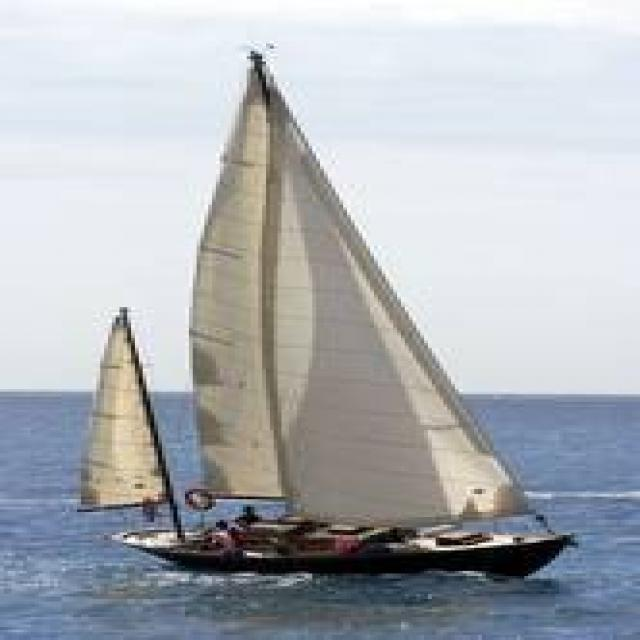Ship: (79, 47, 580, 592)
